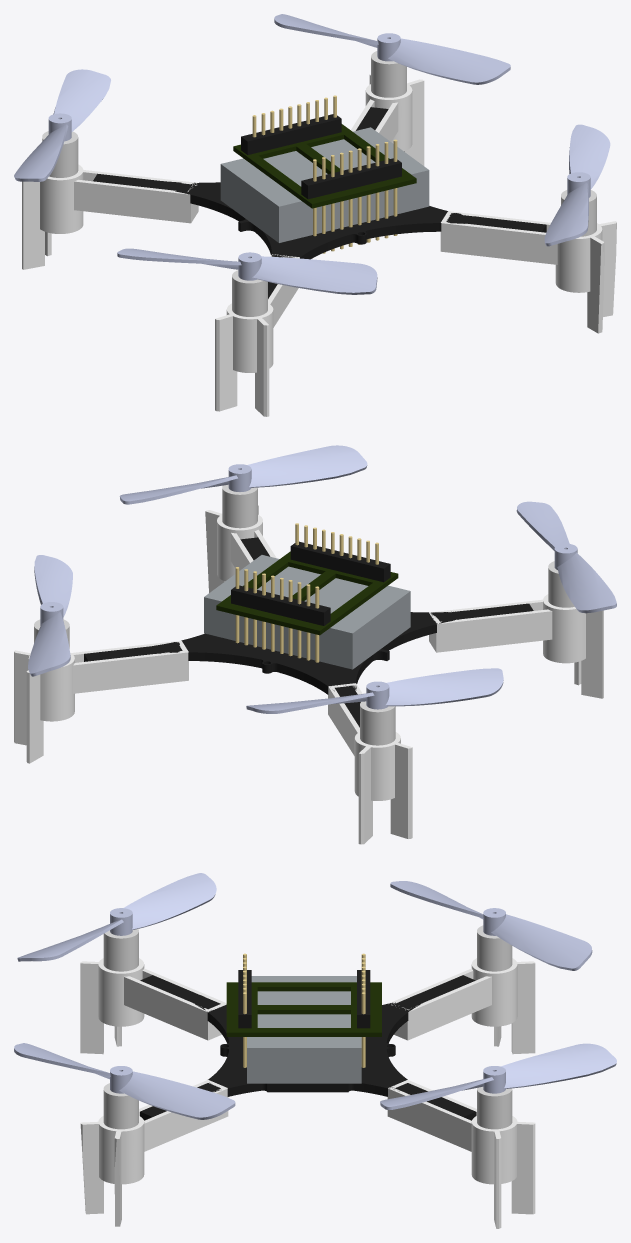
3 renders of one model, top to bottom at view 1: azimuth 30°, elevation 25°; view 2: azimuth 150°, elevation 25°; view 3: azimuth 270°, elevation 25°, orthographic.
Parts seen in each view (by area): view 1: Part1, MotorMountsSlanted_006, pcb, Propeller_mockup_002, MotorMountsSlanted_003, Propeller_mockup, MotorMountsSlanted_001, MotorMountsSlanted_004, Propeller_mockup_003, Propeller_mockup_001, Part3, MotorMountsSlanted_005 (+7 smaller); view 2: Part1, pcb, Propeller_mockup_001, Propeller_mockup_003, MotorMountsSlanted_004, MotorMountsSlanted_005, MotorMountsSlanted_002, MotorMountsSlanted, MotorMountsSlanted_003, Propeller_mockup_002, Propeller_mockup, Part3 (+7 smaller); view 3: Part1, pcb, MotorMountsSlanted_006, Part3, MotorMountsSlanted_005, Propeller_mockup, Propeller_mockup_003, Propeller_mockup_001, Propeller_mockup_002, MotorMountsSlanted_004, MotorMountsSlanted_003, MotorMountsSlanted_002 (+8 smaller).
Part boxes in pixels (bbox=[...]): Part1: bbox=[220, 127, 429, 242]; MotorMountsSlanted_006: bbox=[440, 211, 616, 333]; pcb: bbox=[93, 107, 546, 298]; Propeller_mockup_002: bbox=[117, 248, 377, 294]; MotorMountsSlanted_003: bbox=[215, 303, 273, 416]; Propeller_mockup: bbox=[274, 14, 510, 84]; MotorMountsSlanted_001: bbox=[74, 170, 198, 223]; MotorMountsSlanted_004: bbox=[22, 164, 83, 269]; Propeller_mockup_003: bbox=[14, 69, 110, 181]; Propeller_mockup_001: bbox=[544, 124, 610, 246]; Part3: bbox=[233, 124, 416, 208]; MotorMountsSlanted_005: bbox=[365, 74, 424, 165]; Part1: bbox=[204, 555, 410, 669]; pcb: bbox=[84, 537, 533, 727]; Propeller_mockup_001: bbox=[119, 445, 367, 504]; Propeller_mockup_003: bbox=[246, 668, 503, 713]; MotorMountsSlanted_004: bbox=[354, 732, 412, 844]; MotorMountsSlanted_005: bbox=[14, 650, 74, 763]; MotorMountsSlanted_002: bbox=[429, 599, 552, 652]; MotorMountsSlanted: bbox=[71, 640, 188, 693]; MotorMountsSlanted_003: bbox=[543, 594, 603, 698]; Propeller_mockup_002: bbox=[516, 501, 616, 613]; Propeller_mockup: bbox=[28, 555, 72, 676]; Part3: bbox=[216, 551, 398, 635]; Part1: bbox=[247, 976, 361, 1083]; pcb: bbox=[140, 975, 475, 1120]; MotorMountsSlanted_006: bbox=[80, 1080, 228, 1226]; Part3: bbox=[226, 982, 381, 1036]; MotorMountsSlanted_005: bbox=[471, 1116, 535, 1228]; Propeller_mockup: bbox=[380, 1043, 616, 1109]; Propeller_mockup_003: bbox=[390, 881, 592, 970]; Propeller_mockup_001: bbox=[14, 1043, 235, 1119]; Propeller_mockup_002: bbox=[17, 873, 216, 961]; MotorMountsSlanted_004: bbox=[471, 958, 535, 1054]; MotorMountsSlanted_003: bbox=[80, 958, 144, 1054]; MotorMountsSlanted_002: bbox=[124, 968, 226, 1040].
Size of the model in its own units: 0.098 by 0.031 by 0.1055.
